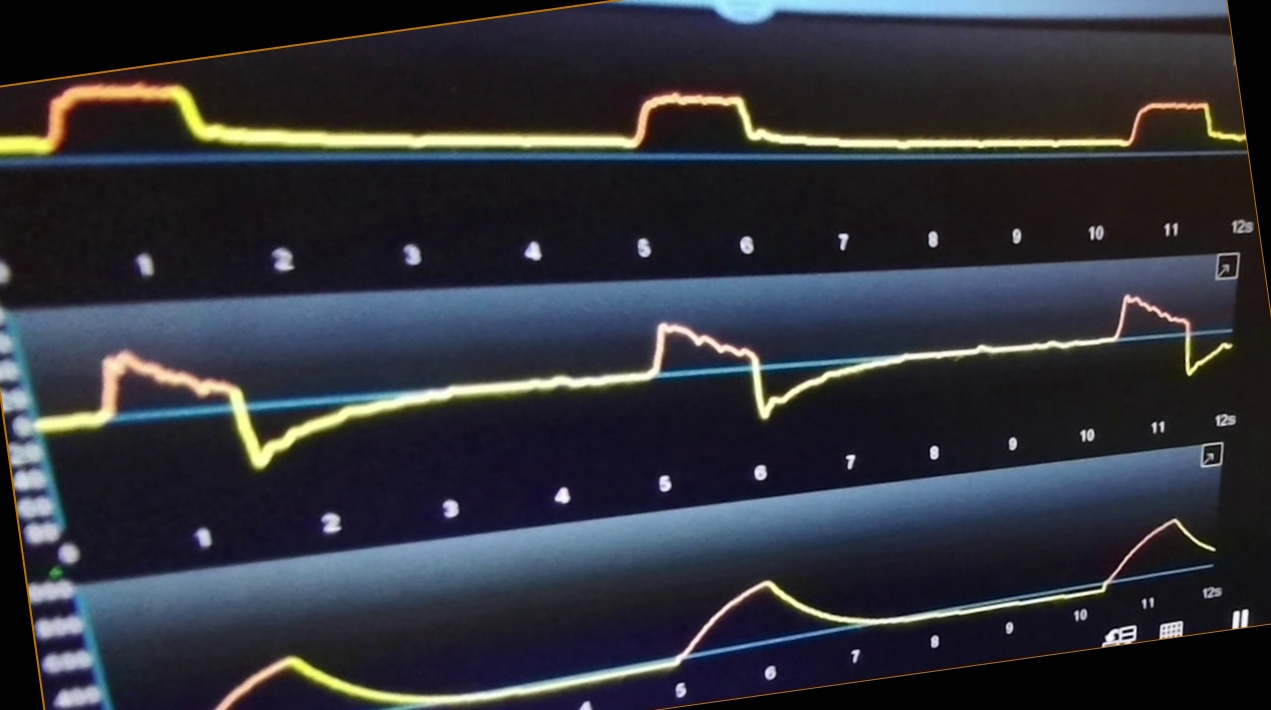Accumulation Flow: (53, 294, 1230, 471)
Volume: (211, 516, 1214, 709)
